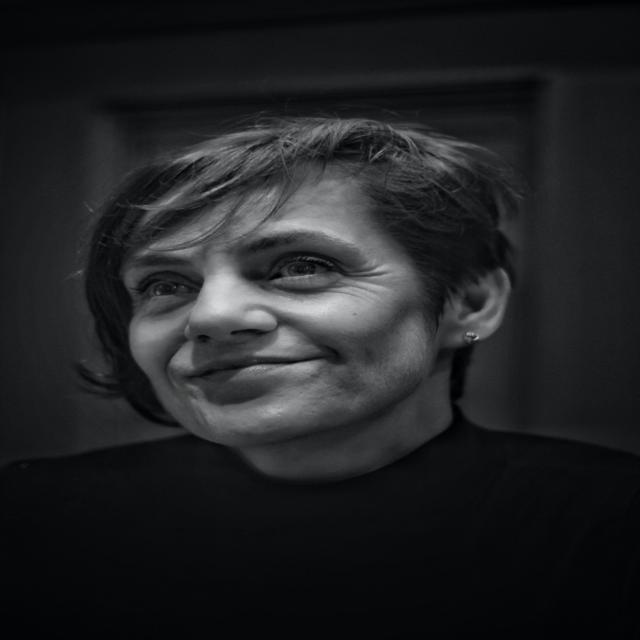adult: (1, 108, 620, 640)
